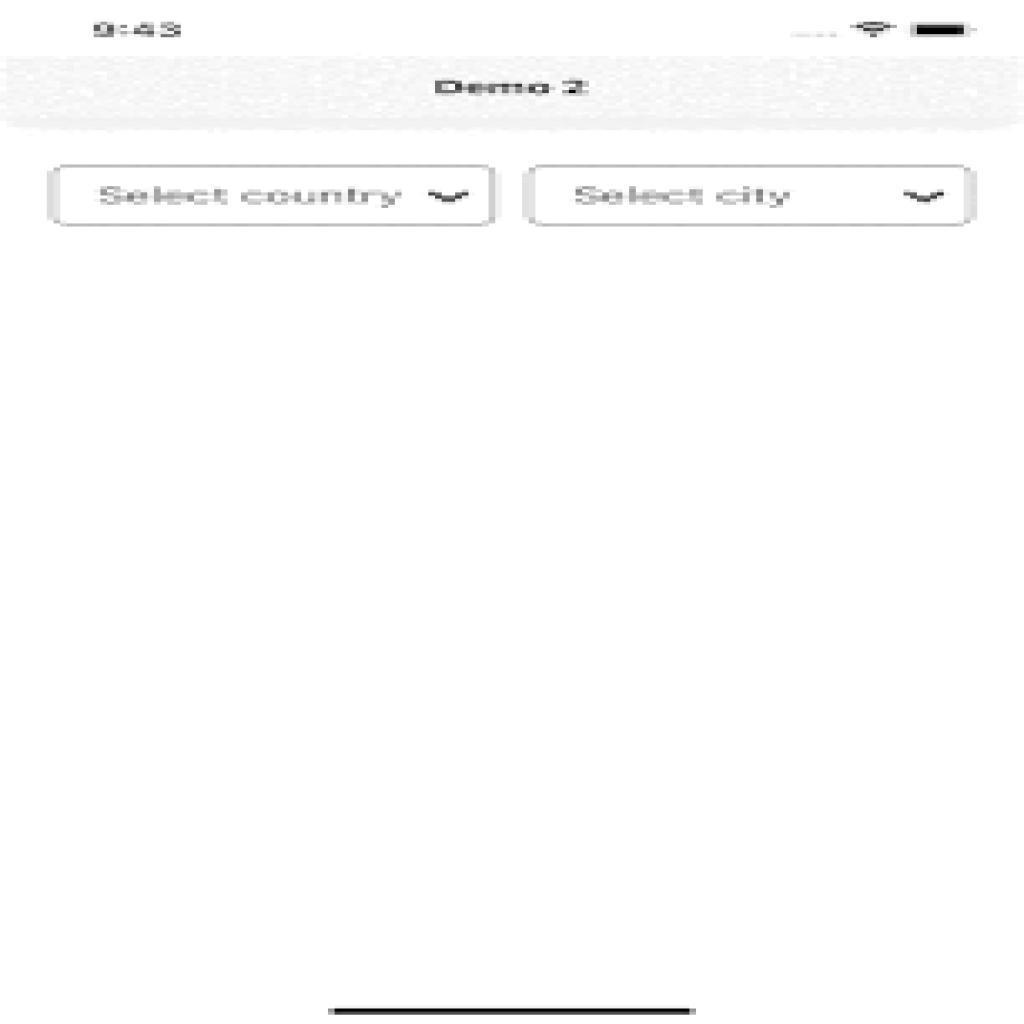dropdown: (525, 164, 976, 228), (49, 164, 496, 227)
